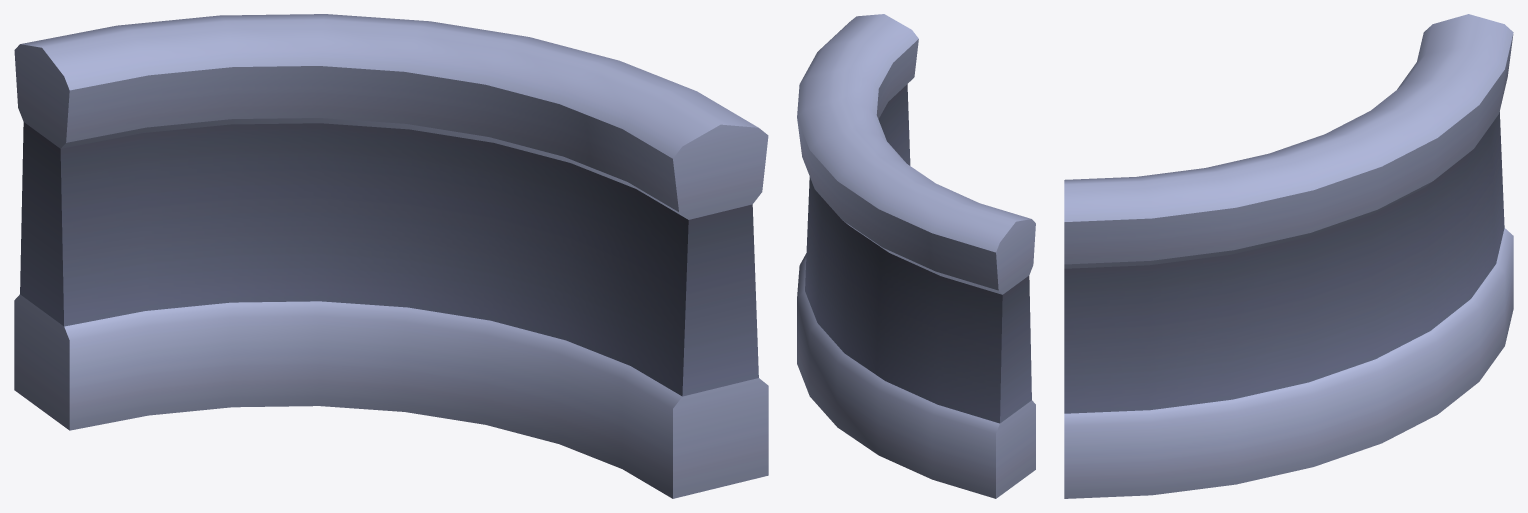
File: stone-wall-curve.glb
3 renders of one model, left to right at view 1: azimuth 30°, elevation 25°; view 2: azimuth 150°, elevation 25°; view 3: azimuth 270°, elevation 25°, orthographic. The views are drawn at different scales.
Visible parts, largest first — view 1: stone-wall-curve; view 2: stone-wall-curve; view 3: stone-wall-curve.
Part boxes in pixels (x1=…): stone-wall-curve: x1=14, y1=14, x2=768, y2=498; stone-wall-curve: x1=797, y1=14, x2=1035, y2=498; stone-wall-curve: x1=1064, y1=14, x2=1513, y2=498.
Size of the model in its own units: 1 by 0.725 by 1.
Materials: 1 (1 with a texture image).
